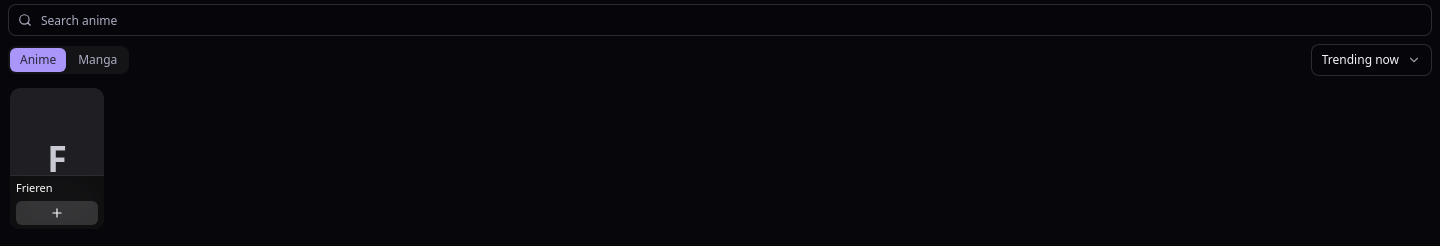
Test: DiscoverView › adds an unlisted title to Planning and marks it immediately
Click the button named "Add Frieren to Planning" at (57, 213), box [16,201,98,225]
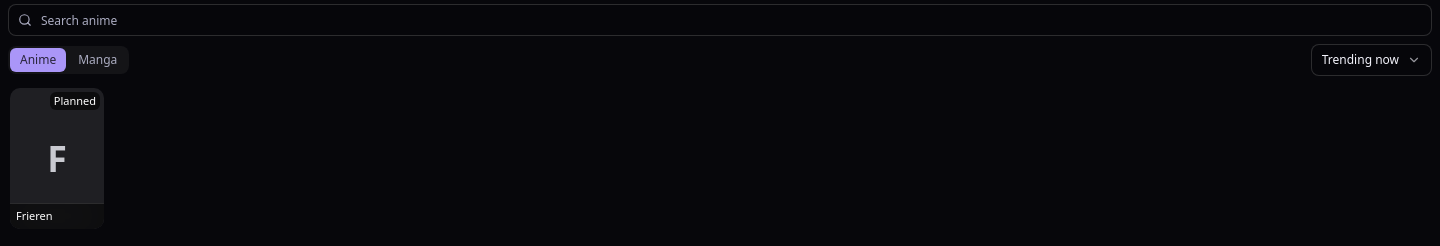
Check: the text "Planned" is shown, box [50,92,100,110]
